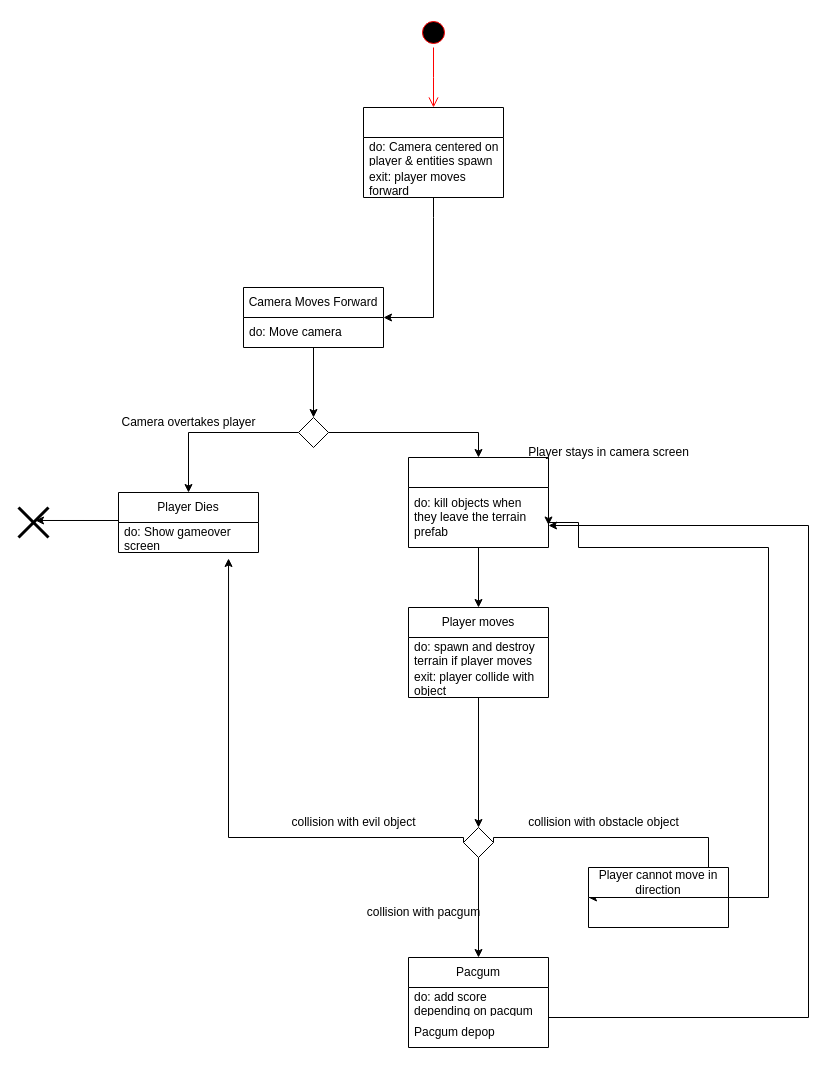
The diagram is 834 pixels wide and 1065 high, and some of its shapes have lost their labels. The shapes that lost their labels are listed below. From the top down, each one's box as (x1, y1, x2, y2) in pixels, then its label:
(362, 106, 504, 198): StartGame
(408, 456, 548, 548): Keep playing
